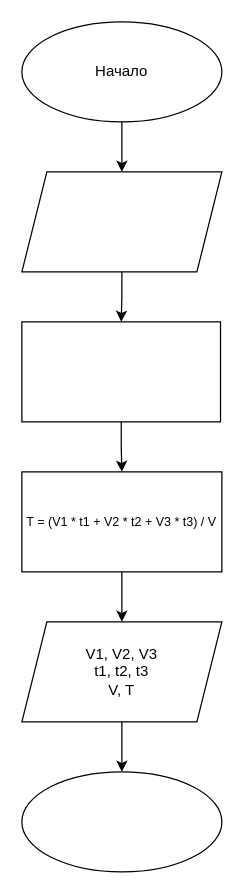
Image size: 244x894. Some labels were removed from this diagram. Each missing label, with the centre of its shape:
V = V1 + V2 + V3: (x=120, y=371)
V1 = 2.0, t1 = 21.0 V2 = 3.0, t2 = 40.0 V3 = 5.0, t3 = 36.0 V, T: (x=121, y=221)
